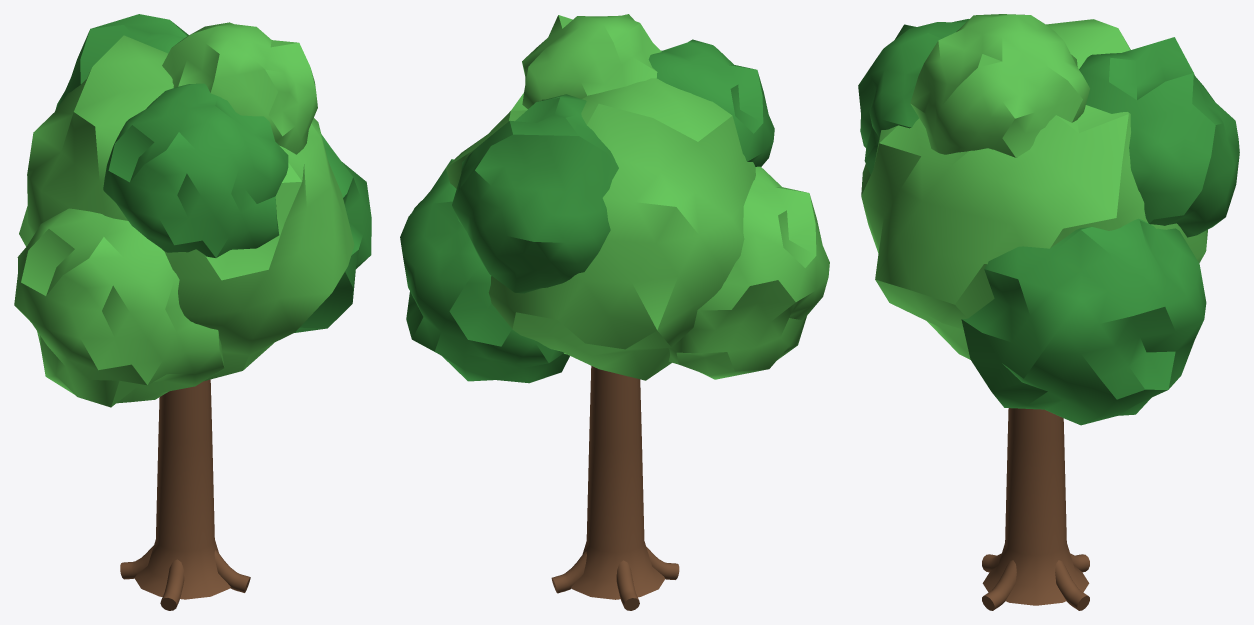
File: PropTree.fbx
The picture shows the model from 3 angles, left to right: view 1: azimuth 30°, elevation 25°; view 2: azimuth 150°, elevation 25°; view 3: azimuth 270°, elevation 25°; orthographic projection. The views are drawn at different scales.
Visible parts, largest first — view 1: Leaf, DarkLeaf, Bark; view 2: Leaf, DarkLeaf, Bark; view 3: DarkLeaf, Leaf, Bark.
Boxes of the visible parts, x1,y1,x2,y2 form: Leaf: [14, 22, 354, 407]; DarkLeaf: [55, 14, 371, 332]; Bark: [120, 379, 250, 610]; Leaf: [445, 14, 829, 380]; DarkLeaf: [400, 39, 774, 383]; Bark: [551, 366, 679, 610]; DarkLeaf: [858, 19, 1239, 425]; Leaf: [861, 14, 1207, 359]; Bark: [982, 408, 1089, 610].
Bounding box in the file's own units: 805 × 1154 × 680.
